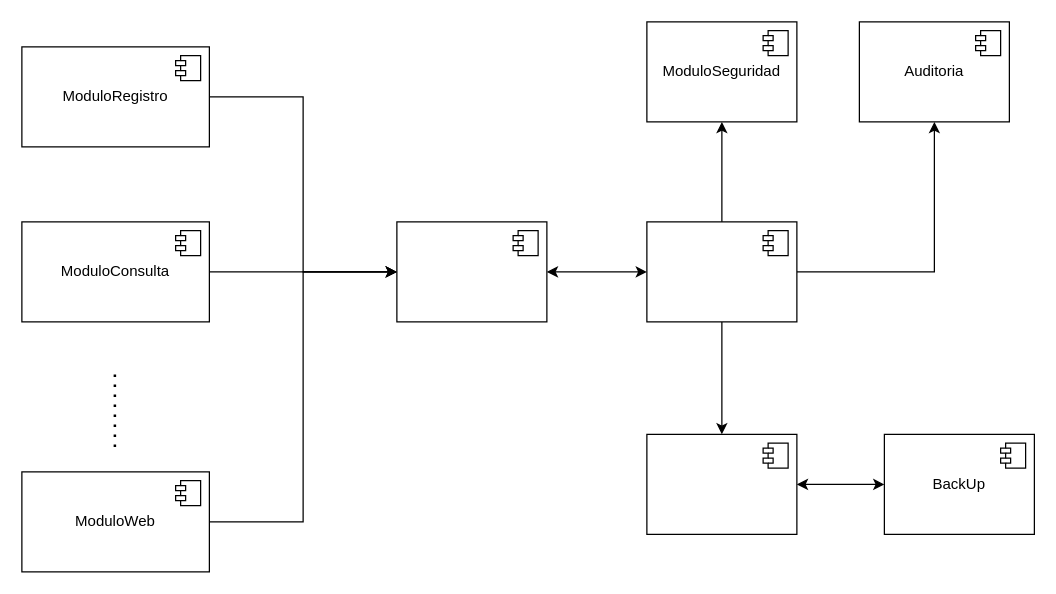
Some shapes in this 1056 by 594 pixel diagram are drawn without their labels. Here are the shapes that lost their labels. From the top down, the centre of each, then its label:
the point at 471,271: ApiRest
the point at 721,271: Backend
the point at 721,483: DataBase
